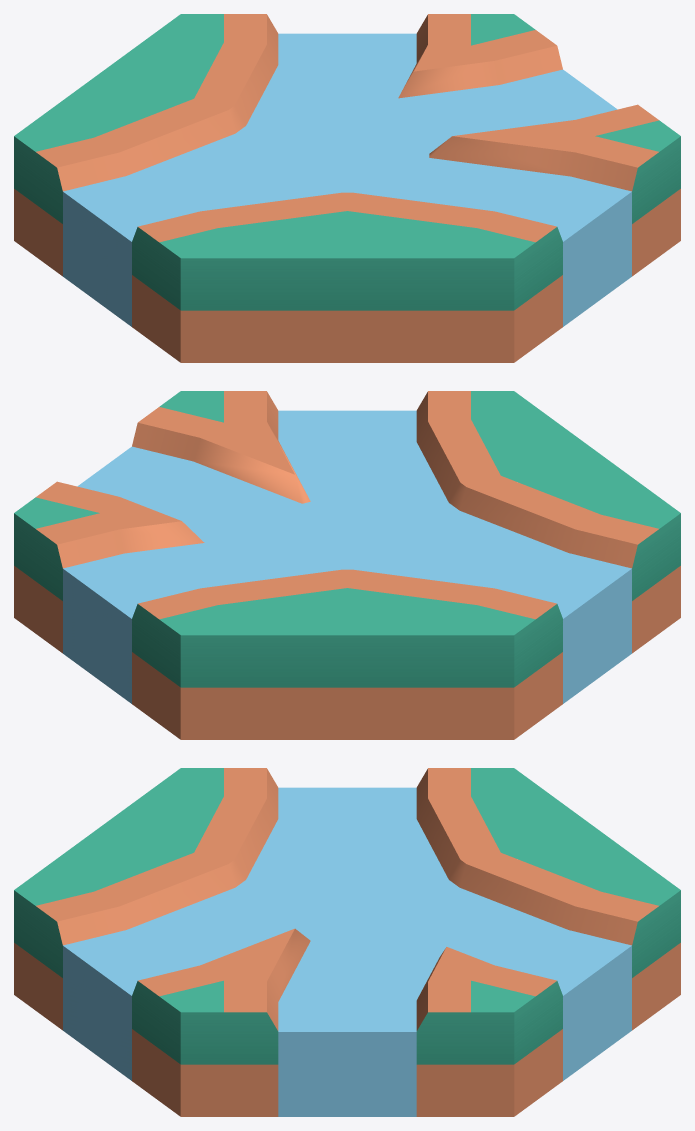
Rendered from river-intersectionD.gltf.
The picture shows the model from 3 angles, top to bottom: view 1: azimuth 30°, elevation 25°; view 2: azimuth 150°, elevation 25°; view 3: azimuth 270°, elevation 25°; orthographic projection.
Visible parts, largest first — view 1: river_intersectionD; view 2: river_intersectionD; view 3: river_intersectionD.
Boxes of the visible parts, box(x1,y1,x2,y2) form: river_intersectionD: box(14, 14, 680, 362); river_intersectionD: box(14, 391, 680, 739); river_intersectionD: box(14, 768, 680, 1116).
Bounding box in the file's own units: 1 × 0.2 × 1.15.
Materials: 1 (1 with a texture image).
